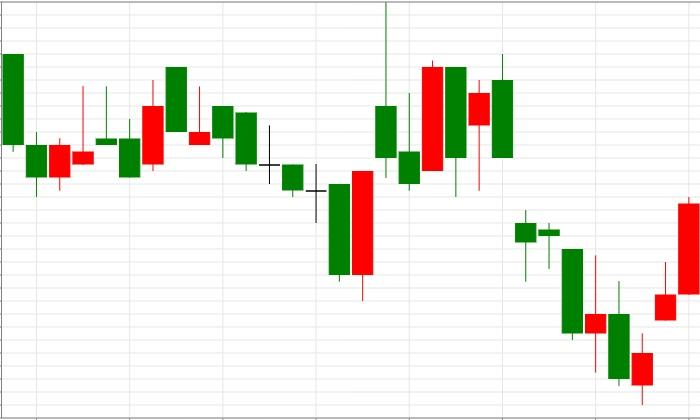bullish_engulfing_rise: (166, 67, 373, 301)
three_white_soldiers_rise: (492, 53, 700, 405)
